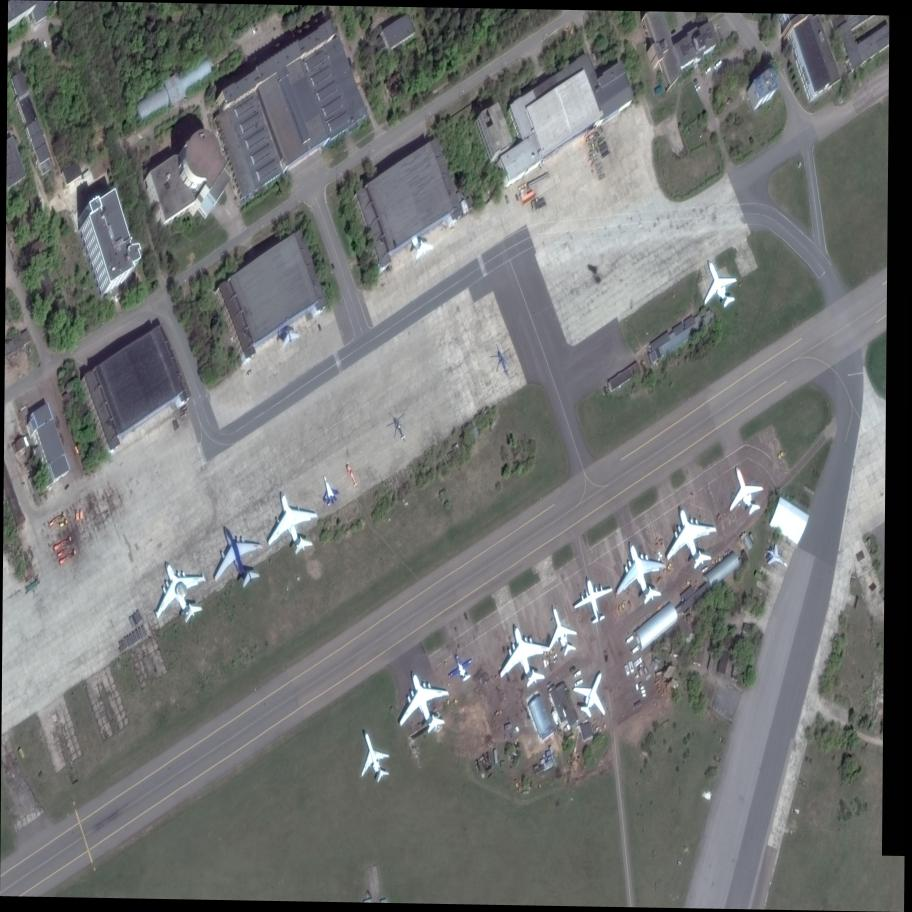large-vehicle: (630, 644, 641, 656), (624, 635, 635, 646), (572, 669, 582, 679), (574, 679, 584, 686)
plane: (141, 546, 218, 637), (648, 498, 734, 579), (200, 511, 274, 600), (385, 660, 459, 742), (254, 481, 326, 565), (602, 532, 674, 616), (487, 616, 557, 697), (690, 249, 748, 316), (564, 661, 620, 725), (717, 457, 771, 523), (349, 725, 397, 788), (568, 573, 619, 629), (539, 599, 583, 660), (441, 649, 481, 686), (759, 541, 796, 576), (314, 472, 343, 508), (408, 235, 437, 261), (277, 325, 303, 348), (344, 461, 360, 487)
